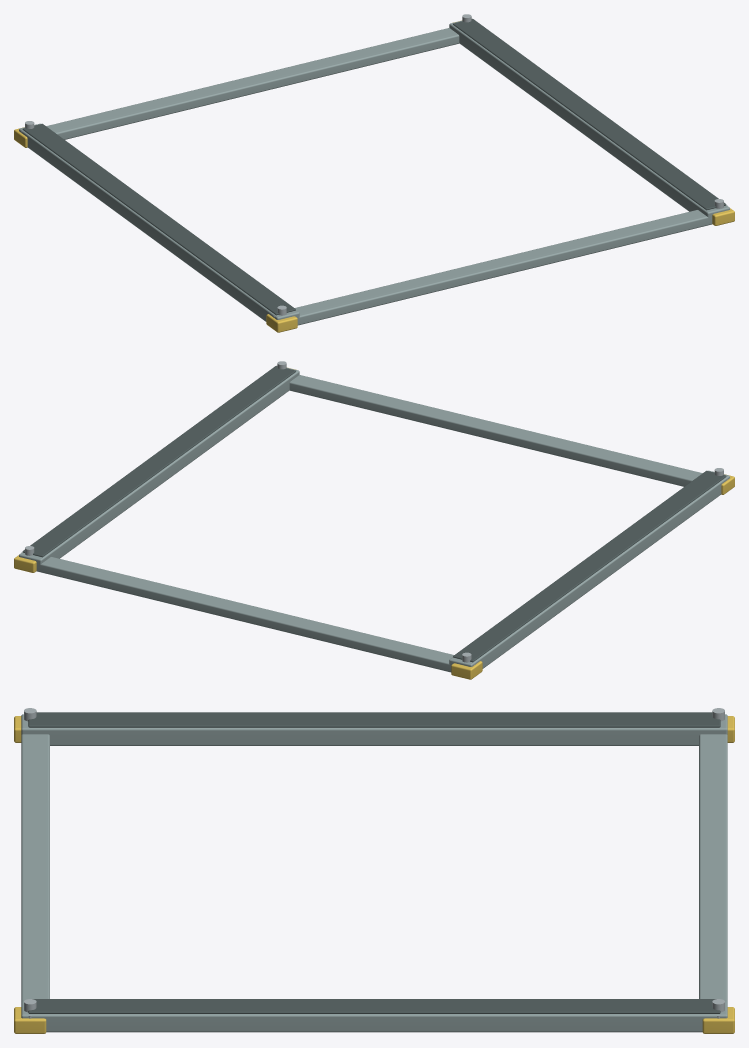
File: cargo_securing_bed_4m.glb
3 views of the same model, one above another, from view 1: azimuth 30°, elevation 25°; view 2: azimuth 150°, elevation 25°; view 3: azimuth 270°, elevation 25° (orthographic). The views are drawn at different scales.
Visible parts, largest first — view 1: cargo_securing_bed_4m Warm white painted steel, cargo_securing_bed_4m Fixed_CargoBearing, cargo_securing_bed_4m Fixed_LoadMark; view 2: cargo_securing_bed_4m Warm white painted steel, cargo_securing_bed_4m Fixed_CargoBearing, cargo_securing_bed_4m Fixed_LoadMark; view 3: cargo_securing_bed_4m Warm white painted steel, cargo_securing_bed_4m Fixed_CargoBearing, cargo_securing_bed_4m Fixed_LoadMark, cargo_securing_bed_4m Fixed_Galvanized.
Boxes of the visible parts, left/top/right/bottom form: cargo_securing_bed_4m Warm white painted steel: left=19, top=20, right=729, bottom=325; cargo_securing_bed_4m Fixed_CargoBearing: left=22, top=18, right=726, bottom=315; cargo_securing_bed_4m Fixed_LoadMark: left=14, top=21, right=734, bottom=332; cargo_securing_bed_4m Warm white painted steel: left=19, top=367, right=729, bottom=672; cargo_securing_bed_4m Fixed_CargoBearing: left=22, top=365, right=726, bottom=662; cargo_securing_bed_4m Fixed_LoadMark: left=14, top=368, right=734, bottom=679; cargo_securing_bed_4m Warm white painted steel: left=21, top=714, right=727, bottom=1032; cargo_securing_bed_4m Fixed_CargoBearing: left=28, top=712, right=720, bottom=1013; cargo_securing_bed_4m Fixed_LoadMark: left=14, top=716, right=734, bottom=1033; cargo_securing_bed_4m Fixed_Galvanized: left=24, top=708, right=724, bottom=1018.
Bounding box in the file's own units: 4 × 0.16 × 4.
